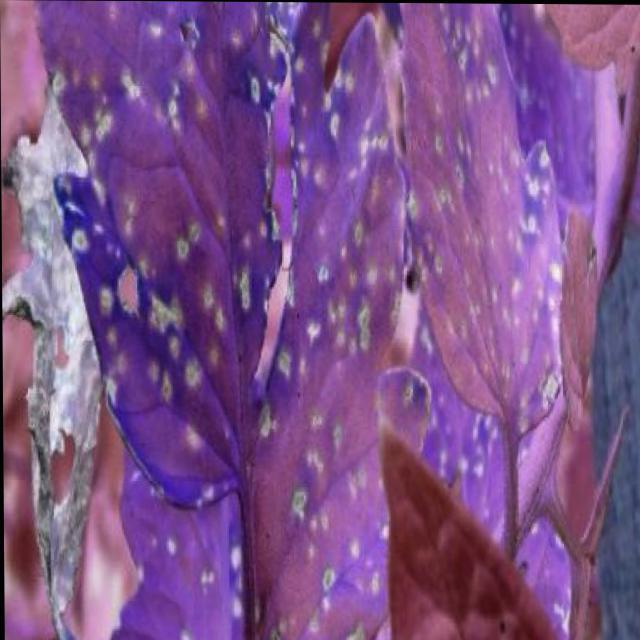Tomato Septoria spot leaf: (31, 1, 426, 639), (403, 4, 608, 455)
